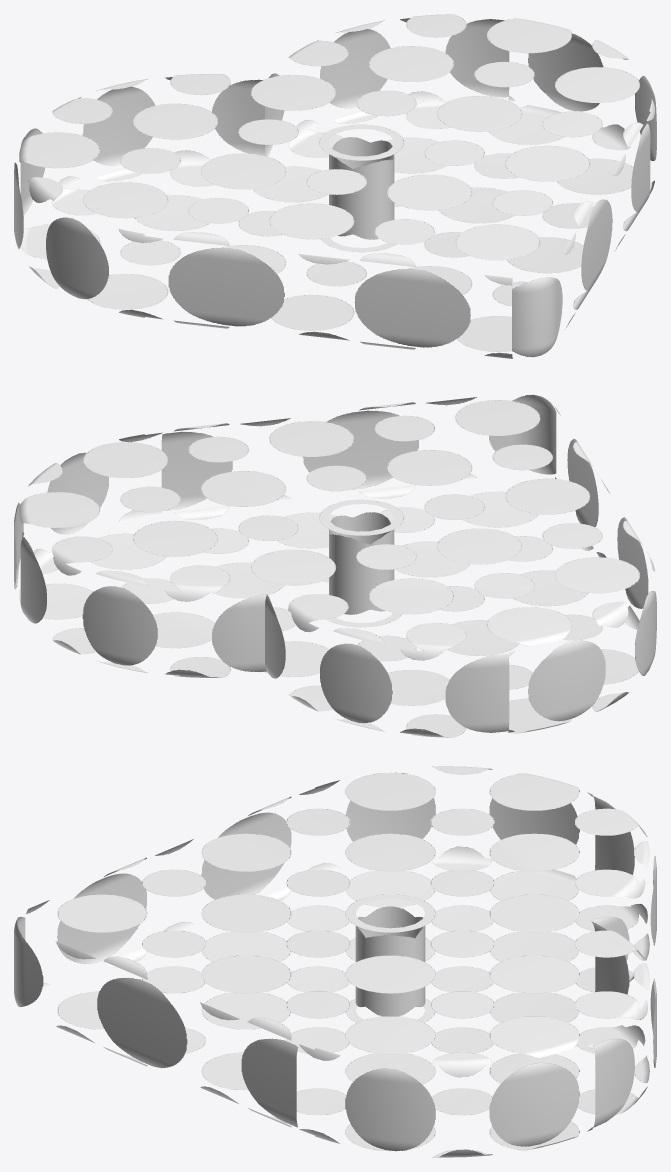
The picture shows the model from 3 angles, top to bottom: view 1: azimuth 30°, elevation 25°; view 2: azimuth 150°, elevation 25°; view 3: azimuth 270°, elevation 25°; orthographic projection. The views are drawn at different scales.
Parts seen in each view (by area): view 1: Heart.008; view 2: Heart.008; view 3: Heart.008.
Boxes of the visible parts, <box> form: Heart.008: <box>14,14,656,358</box>; Heart.008: <box>14,394,656,737</box>; Heart.008: <box>14,766,656,1157</box>.
Bounding box in the file's own units: 486 × 72 × 433.
